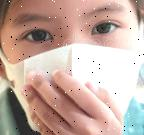with_mask: (2, 1, 144, 135)
